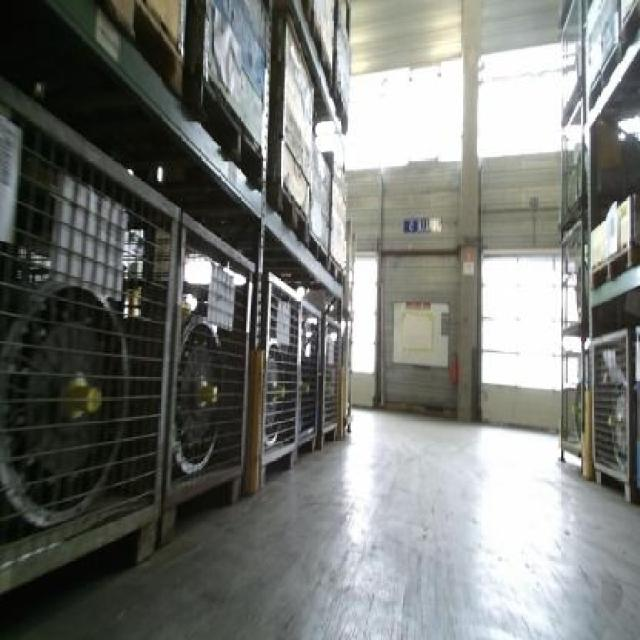floor: (0, 409, 637, 637)
pallets: (558, 0, 637, 497)
